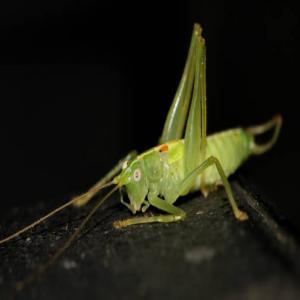locust: (88, 22, 279, 244)
